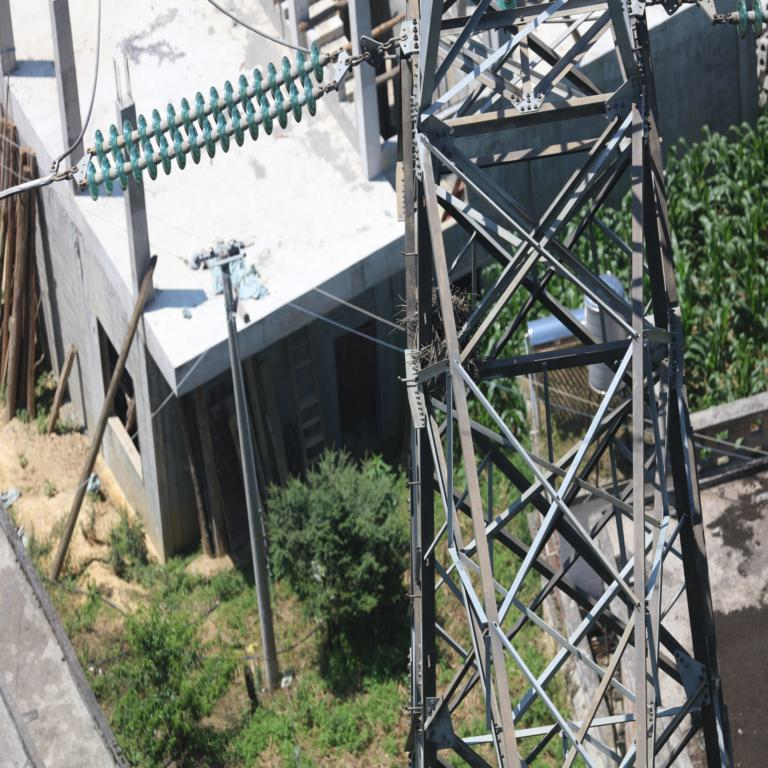nest: (405, 289, 470, 386)
